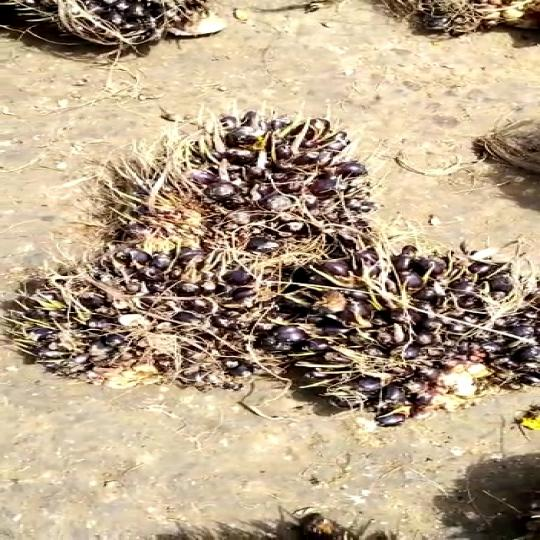mentah: (245, 257, 540, 429), (5, 235, 291, 383), (105, 117, 390, 254)
